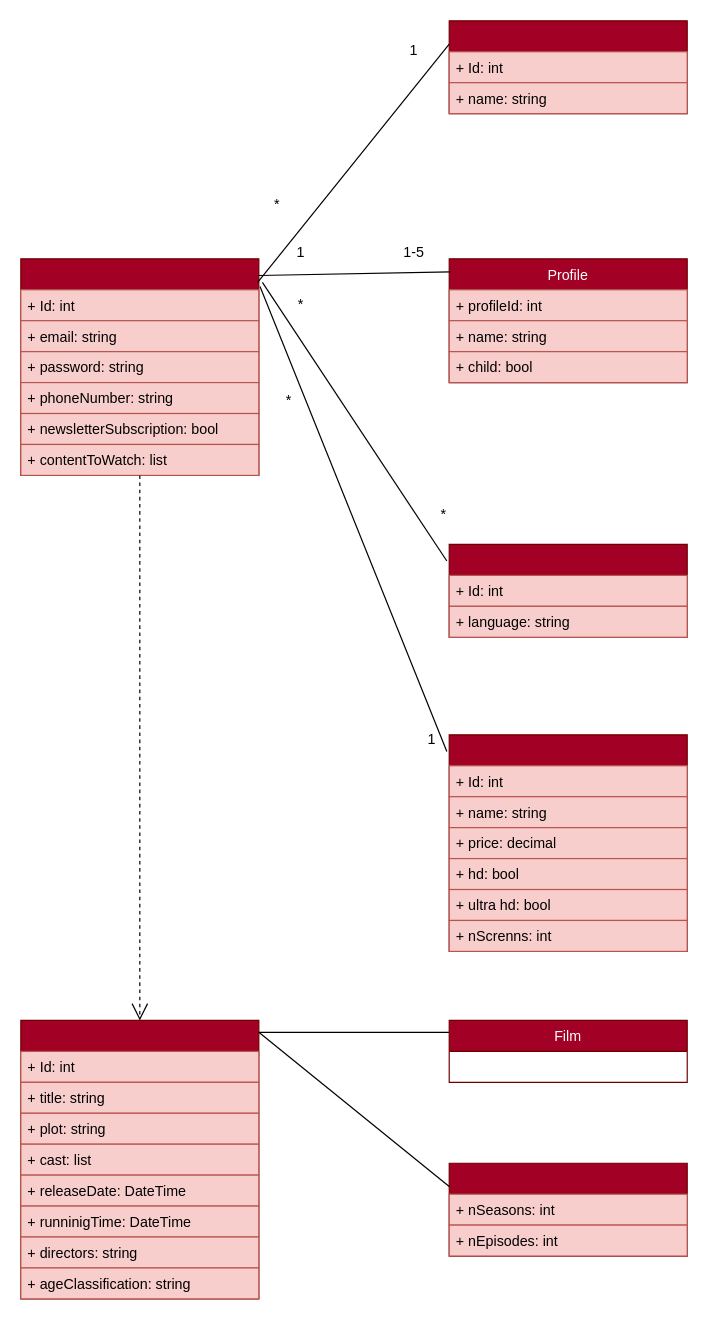
The diagram is 708 pixels wide and 1323 high, and some of its shapes have lost their labels. The shapes that lost their labels are listed below. From the top down, each one's box as (x1, y1, x2, y2) in pixels, then its label:
(448, 20, 687, 114): Payment method
(20, 258, 259, 475): User account
(448, 543, 687, 637): Lenguage
(448, 734, 687, 951): Pyment plan
(20, 1019, 259, 1299): Content
(448, 1162, 687, 1256): Tv Serie
